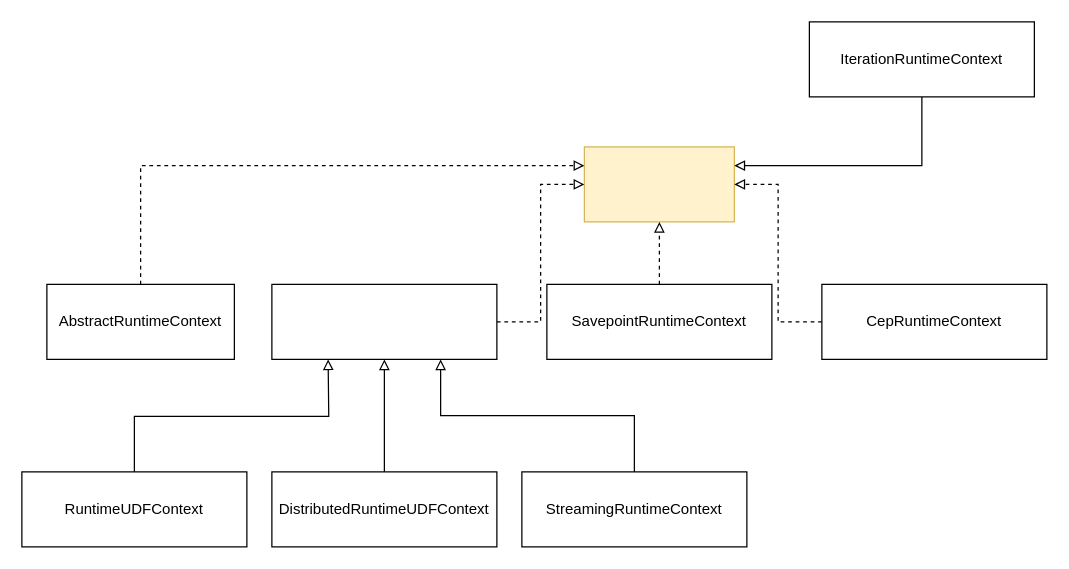
Some shapes in this 1069 by 569 pixel diagram are drawn without their labels. Here are the shapes that lost their labels. From the top down, the centre of each, then its label:
the point at 658,184: RuntimeContext
the point at 384,321: AbstractRuntimeUDFContext
